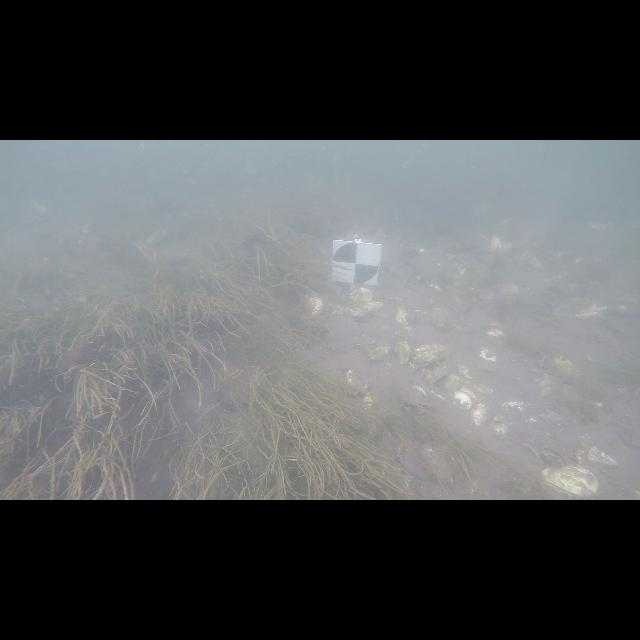Oyster-Closed: (541, 466, 598, 499), (405, 344, 449, 369), (575, 444, 618, 466), (393, 330, 410, 365), (345, 368, 369, 389), (454, 388, 476, 409), (426, 366, 451, 384), (478, 349, 496, 372), (471, 404, 489, 426), (350, 288, 374, 304), (368, 346, 390, 360), (395, 307, 409, 328), (492, 421, 508, 439), (308, 298, 324, 314), (502, 401, 526, 411), (362, 391, 374, 408), (486, 328, 504, 338)
Oyster-Open: (399, 384, 429, 411), (349, 301, 382, 321), (410, 309, 420, 326)
